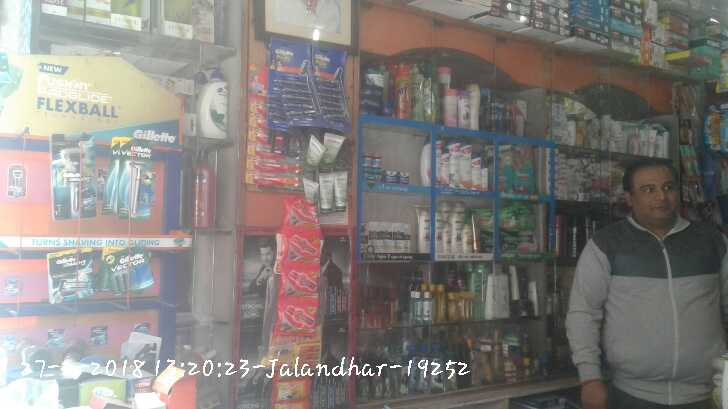gillete: (268, 50, 351, 124), (47, 133, 96, 217), (119, 139, 159, 216), (99, 247, 156, 299), (46, 245, 89, 302)
